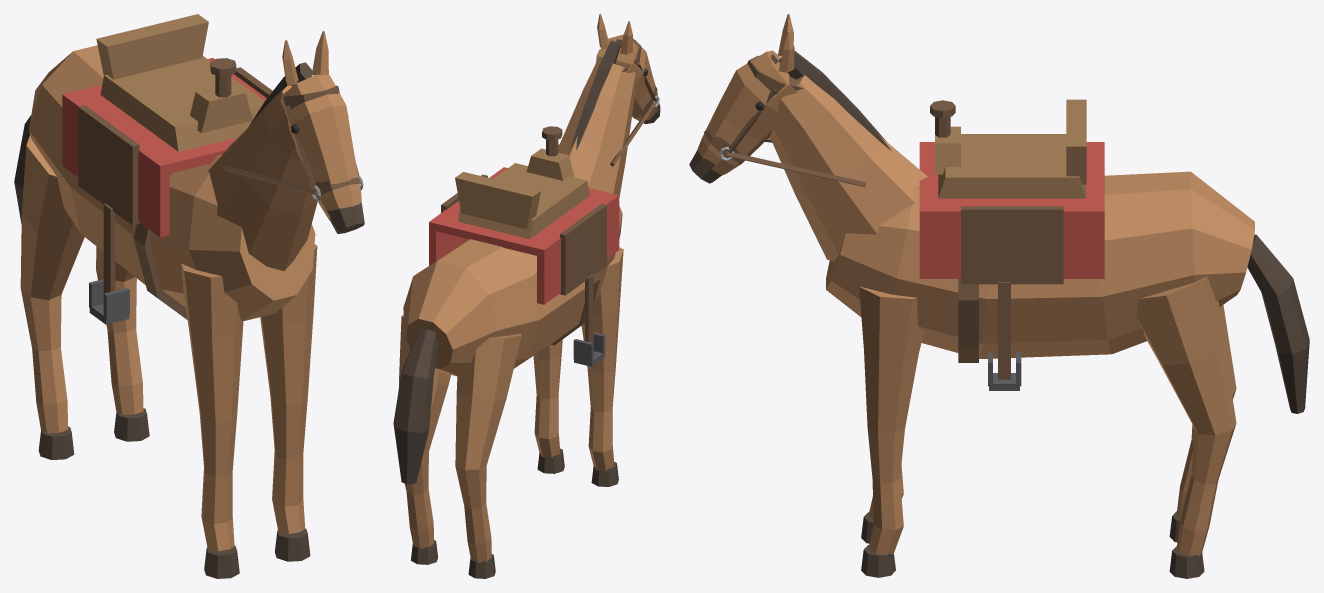
File: SM_Horse_Saddled.glb
3 views of the same model, side by side, from view 1: azimuth 30°, elevation 25°; view 2: azimuth 150°, elevation 25°; view 3: azimuth 270°, elevation 25° (orthographic). The views are drawn at different scales.
Visible parts, largest first — view 1: SM_Horse_Saddled; view 2: SM_Horse_Saddled; view 3: SM_Horse_Saddled.
Boxes of the visible parts, left/top/right/bottom form: SM_Horse_Saddled: left=14, top=14, right=364, bottom=578; SM_Horse_Saddled: left=393, top=14, right=660, bottom=578; SM_Horse_Saddled: left=689, top=14, right=1309, bottom=578.
Size of the model in its own units: 0.79 by 2.28 by 2.41.
